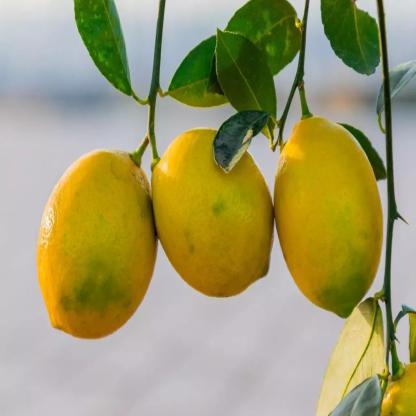lemon: (34, 146, 158, 342), (274, 110, 384, 320), (151, 127, 277, 301)
